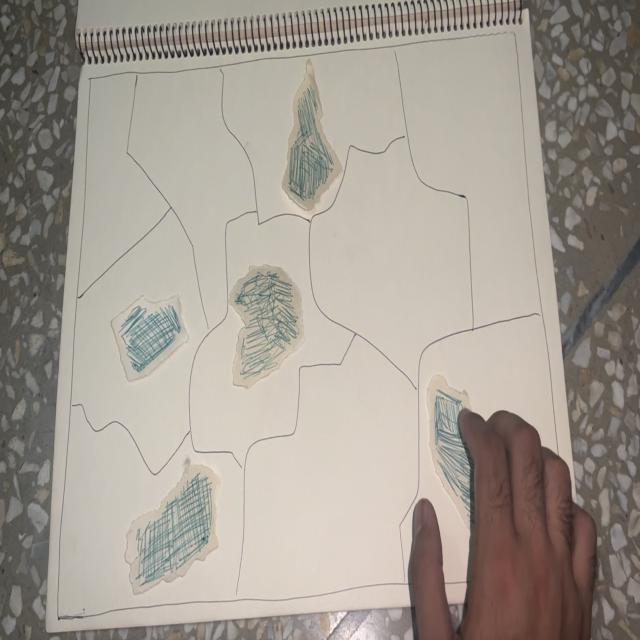paper: (122, 452, 225, 599), (426, 371, 496, 542), (228, 258, 306, 396), (281, 63, 341, 204), (109, 287, 191, 382)
